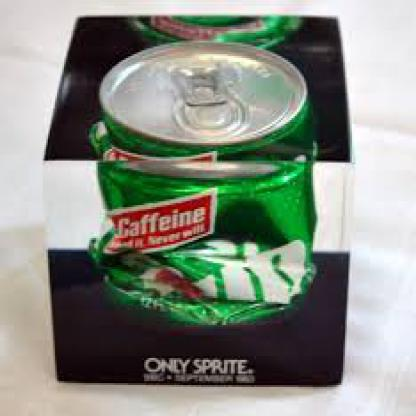METAL: (87, 41, 318, 330)
